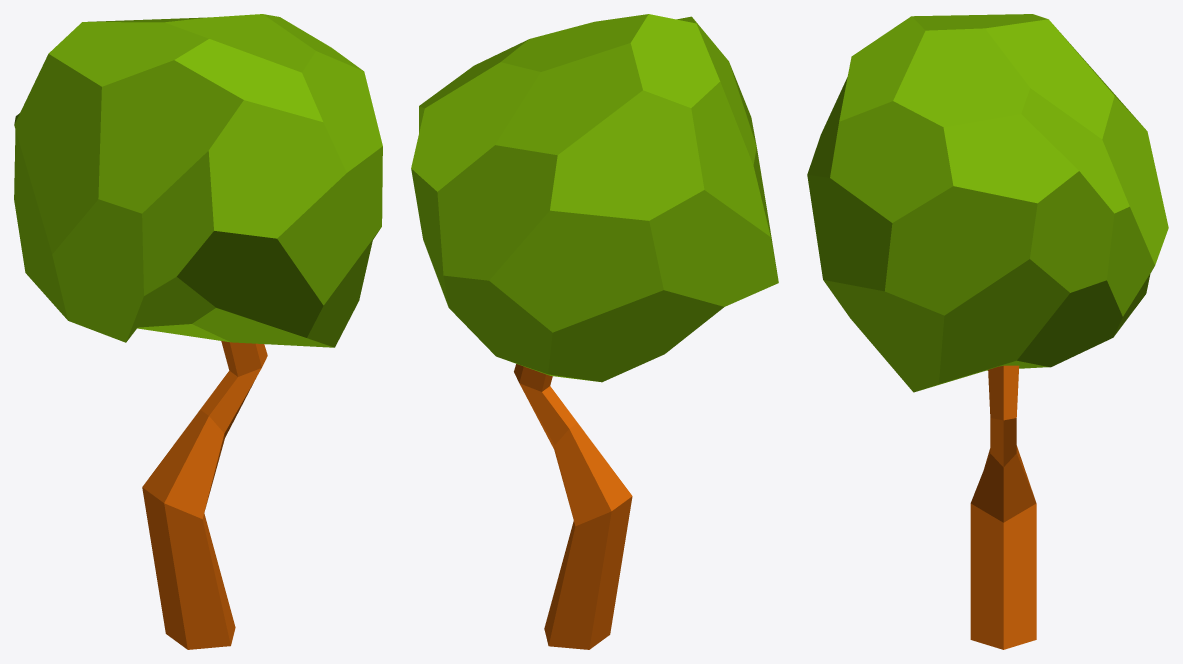
Rendered from Tree.fbx.
The picture shows the model from 3 angles, left to right: view 1: azimuth 30°, elevation 25°; view 2: azimuth 150°, elevation 25°; view 3: azimuth 270°, elevation 25°; orthographic projection. The views are drawn at different scales.
Visible parts, largest first — view 1: tree; view 2: tree; view 3: tree.
Part boxes in pixels (<box>): tree: <box>14,14,382,649</box>; tree: <box>411,14,778,649</box>; tree: <box>807,14,1168,649</box>.
Bounding box in the file's own units: 65.79 × 121 × 67.59.
